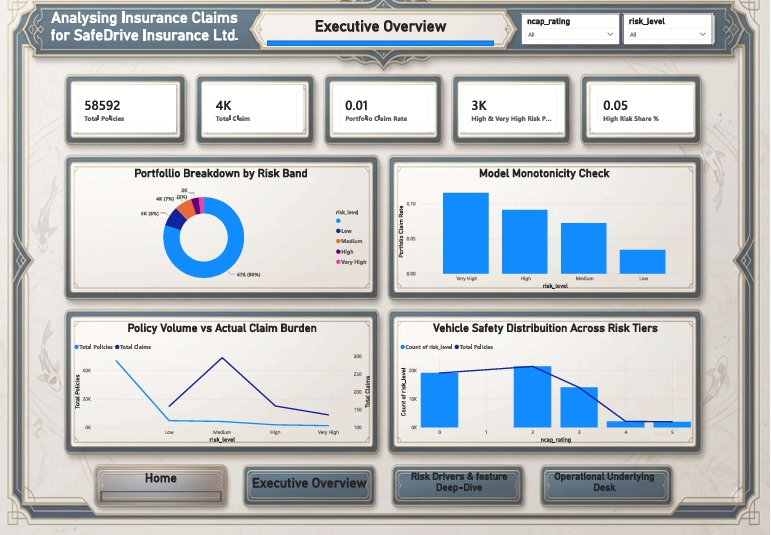

The dashboard page shown, as its layout file describes it:
{"tool":"powerbi","page":{"name":"Executive Overview","canvas":[1900,1360],"ordinal":0},"visuals":[{"type":"cardVisual","fields":{"Data":["all_predictions_bi_analysis.Total Policies"]},"box":[184.6,249.9,255.6,113.6],"z":0},{"type":"cardVisual","fields":{"Data":["Sum(all_predictions_bi_analysis.is_claim)"]},"box":[508.4,249.9,244.2,113.6],"z":1000},{"type":"cardVisual","fields":{"Data":["all_predictions_bi_analysis.Portfolio Claim Rate"]},"box":[826.5,249.9,249.9,113.6],"z":2000},{"type":"cardVisual","fields":{"Data":["all_predictions_bi_analysis.High & Very High Risk Policies"]},"box":[1136,249.9,255.6,113.6],"z":3000},{"type":"cardVisual","fields":{"Data":["all_predictions_bi_analysis.High Risk Share %"]},"box":[1459.8,249.9,249.9,113.6],"z":4000},{"type":"donutChart","title":"Portfollio Breakdown by Risk Band","fields":{"Category":["all_predictions_bi_analysis.risk_level"],"Y":["all_predictions_bi_analysis.Total Policies"]},"box":[178.9,448.7,744.1,306.7],"z":5000},{"type":"clusteredColumnChart","title":"Model Monotonicity Check","fields":{"Category":["all_predictions_bi_analysis.risk_level"],"Y":["all_predictions_bi_analysis.Portfolio Claim Rate"]},"box":[979.8,448.7,729.9,306.7],"z":6000},{"type":"lineChart","title":"Policy Volume vs Actual Claim Burden","fields":{"Category":["all_predictions_bi_analysis.risk_level"],"Y":["all_predictions_bi_analysis.Total Policies"],"Y2":["all_predictions_bi_analysis.Total Claims"]},"box":[184.6,829.3,738.4,303.9],"z":7000},{"type":"lineClusteredColumnComboChart","title":"Vehicle Safety Distribuition Across Risk Tiers","fields":{"Category":["all_predictions_bi_analysis.ncap_rating"],"Y2":["all_predictions_bi_analysis.Total Policies"],"Y":["CountNonNull(all_predictions_bi_analysis.risk_level)"]},"box":[985.5,829.3,724.2,303.9],"z":8000},{"type":"shape","title":"Executive Overview","box":[664.6,82.4,556.7,68.2],"z":9000},{"type":"actionButton","title":"Executive Overview","box":[619.1,1207,298.2,56.8],"z":10000},{"type":"actionButton","title":"Risk Drivers & feature Deep-Dive","box":[982.7,1195.7,306.7,76.7],"z":11000},{"type":"actionButton","title":"Home","box":[255.6,1195.7,295.4,76.7],"z":12000},{"type":"actionButton","title":"Operational Underlying  Desk","box":[1343.3,1195.7,299.8,75],"z":13000},{"type":"slicer","fields":{"Values":["all_predictions_bi_analysis.ncap_rating"]},"box":[1289.4,73.8,241.4,76.7],"z":14000},{"type":"slicer","fields":{"Values":["all_predictions_bi_analysis.risk_level"]},"box":[1539.3,73.8,218.7,76.7],"z":15000},{"type":"shape","title":"Analysing Insurance Claims for SafeDrive Insurance Ltd.","box":[107,61,512,90],"z":16000}]}

Visuals, with their boxes on the page's 1900x1360 design canvas (x1, y1, x2, y2). These are canvas units, not pixel positions in the 771x535 screenshot, which may show the page scaled, cropped or inside an application window:
cardVisual - all_predictions_bi_analysis.Total Policies: [185,250,440,364]
cardVisual - Sum(all_predictions_bi_analysis.is_claim): [508,250,753,364]
cardVisual - all_predictions_bi_analysis.Portfolio Claim Rate: [826,250,1076,364]
cardVisual - all_predictions_bi_analysis.High & Very High Risk Policies: [1136,250,1392,364]
cardVisual - all_predictions_bi_analysis.High Risk Share %: [1460,250,1710,364]
"Portfollio Breakdown by Risk Band" donutChart: [179,449,923,755]
"Model Monotonicity Check" clusteredColumnChart: [980,449,1710,755]
"Policy Volume vs Actual Claim Burden" lineChart: [185,829,923,1133]
"Vehicle Safety Distribuition Across Risk Tiers" lineClusteredColumnComboChart: [986,829,1710,1133]
"Executive Overview" shape: [665,82,1221,151]
"Executive Overview" actionButton: [619,1207,917,1264]
"Risk Drivers & feature Deep-Dive" actionButton: [983,1196,1289,1272]
"Home" actionButton: [256,1196,551,1272]
"Operational Underlying  Desk" actionButton: [1343,1196,1643,1271]
slicer - all_predictions_bi_analysis.ncap_rating: [1289,74,1531,150]
slicer - all_predictions_bi_analysis.risk_level: [1539,74,1758,150]
"Analysing Insurance Claims for SafeDrive Insurance Ltd." shape: [107,61,619,151]
